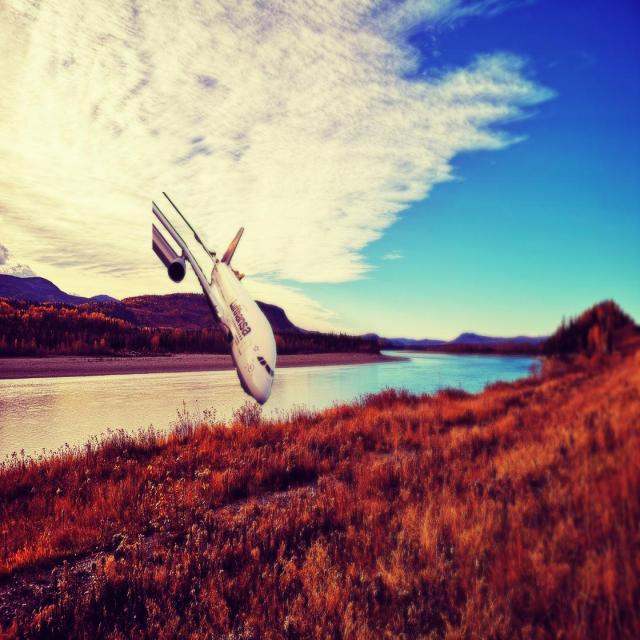airplane: (152, 192, 276, 407)
